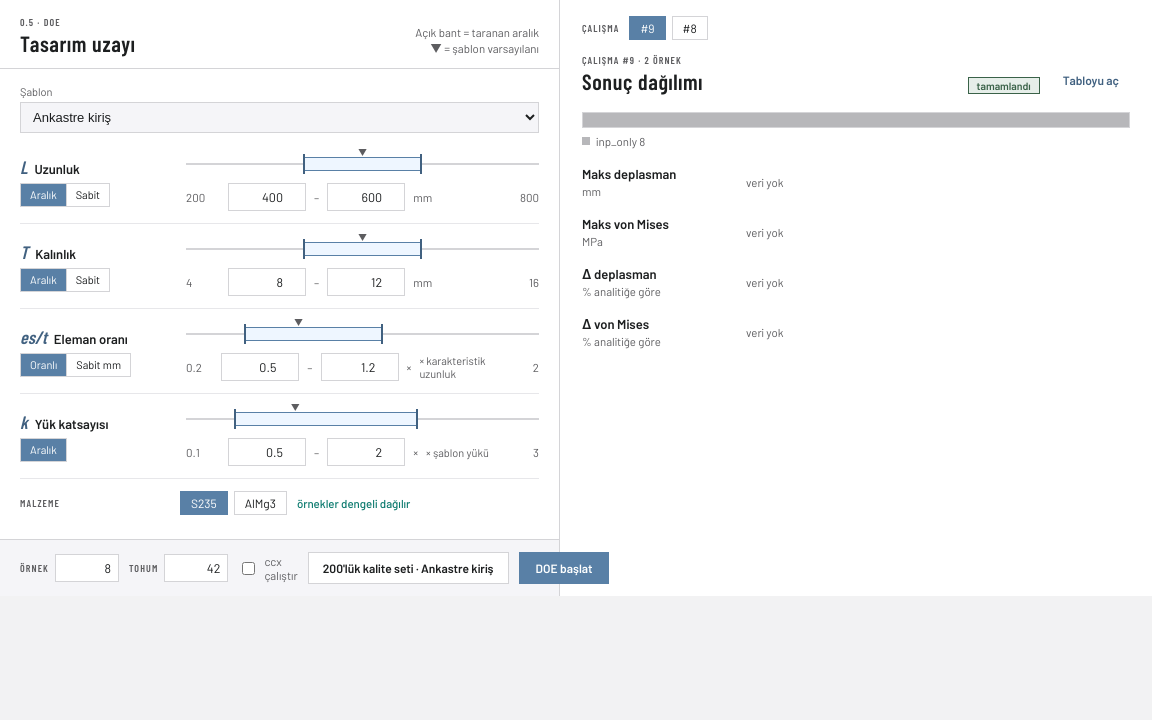
Scenario: DoePanel › en yeni çalışmayı seçip sonuçlarını çeker; çip ile başka çalışmaya geçer
Expected: the text "Çalışma #9 · 2 örnek" is shown, [582,54,682,66]
Click the button "#8". click: [690, 28]
box: [672,16,708,40]
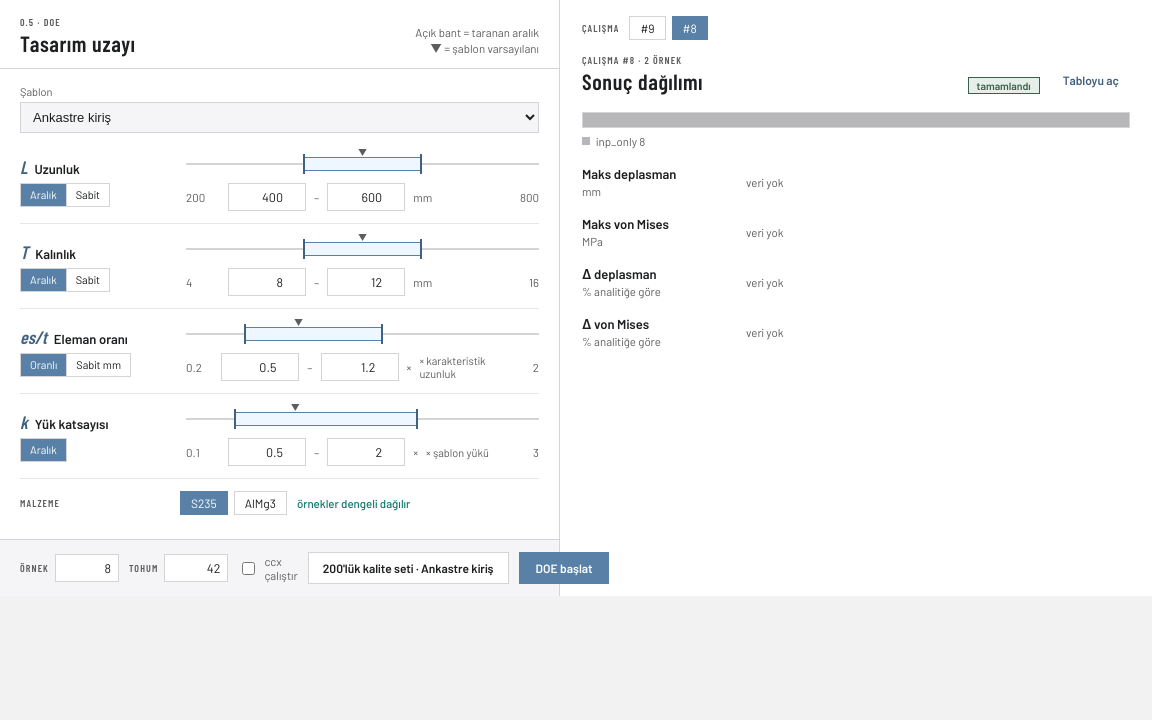
Result: the text "Çalışma #8 · 2 örnek" is shown at [582,54,682,66]
